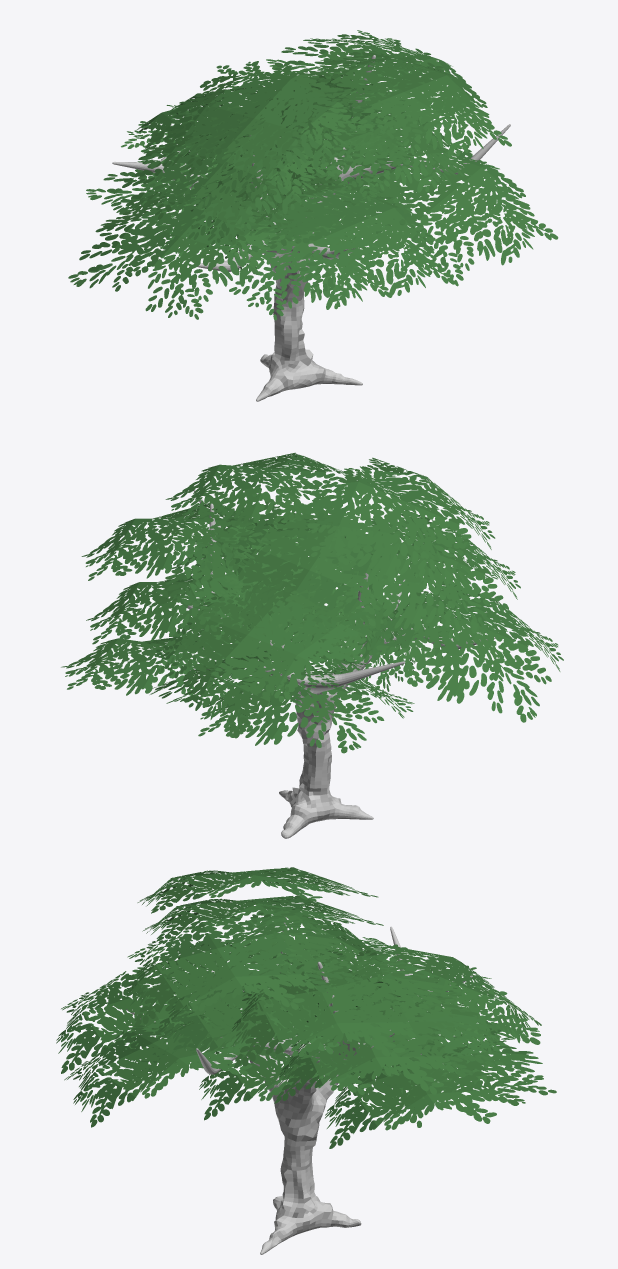
File: Baum_texturedleaves.fbx
The picture shows the model from 3 angles, top to bottom: view 1: azimuth 30°, elevation 25°; view 2: azimuth 150°, elevation 25°; view 3: azimuth 270°, elevation 25°; orthographic projection. The views are drawn at different scales.
Visible parts, largest first — view 1: Cube.004; view 2: Cube.004; view 3: Cube.004.
Boxes of the visible parts, box(x1,y1,x2,y2) form: Cube.004: box(68, 30, 558, 401); Cube.004: box(61, 452, 563, 838); Cube.004: box(56, 867, 556, 1254).
Bounding box in the file's own units: 1206 × 765 × 1196.
